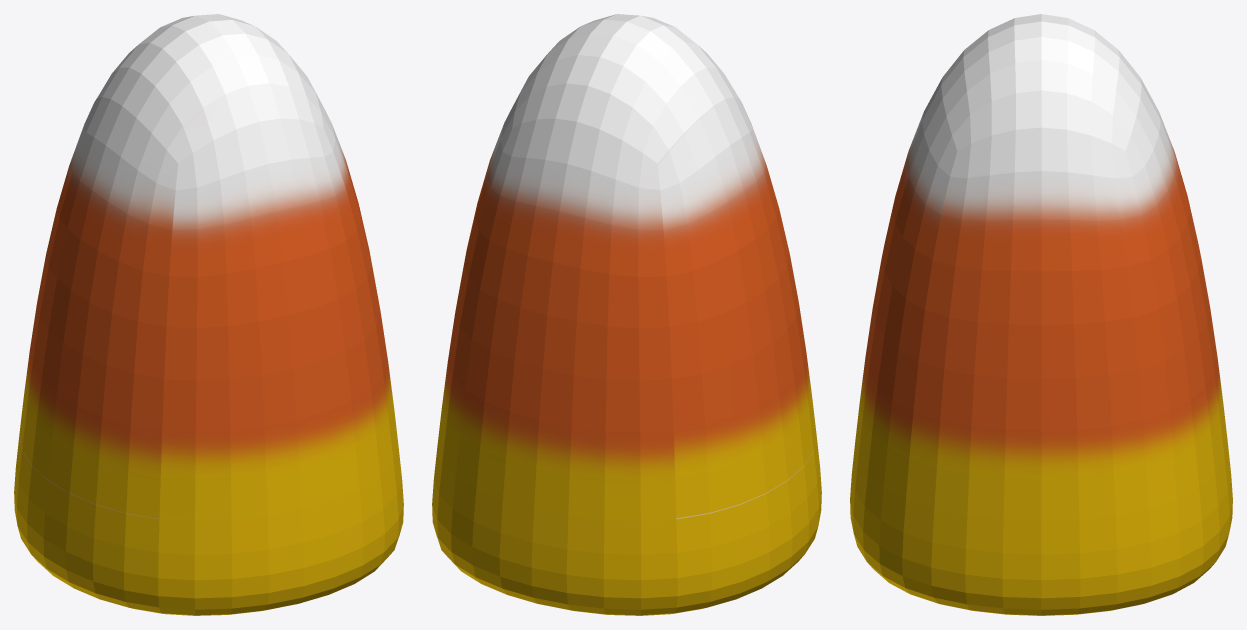
Rendered from Candy 1.fbx.
3 renders of one model, left to right at view 1: azimuth 30°, elevation 25°; view 2: azimuth 150°, elevation 25°; view 3: azimuth 270°, elevation 25°, orthographic.
Visible parts, largest first — view 1: Cube; view 2: Cube; view 3: Cube.
Part boxes in pixels (left/top/right/bottom): Cube: left=14, top=14, right=403, bottom=615; Cube: left=432, top=14, right=821, bottom=615; Cube: left=850, top=14, right=1232, bottom=615.
Size of the model in its own units: 178 by 272 by 178.
1 material, 1 textured.
